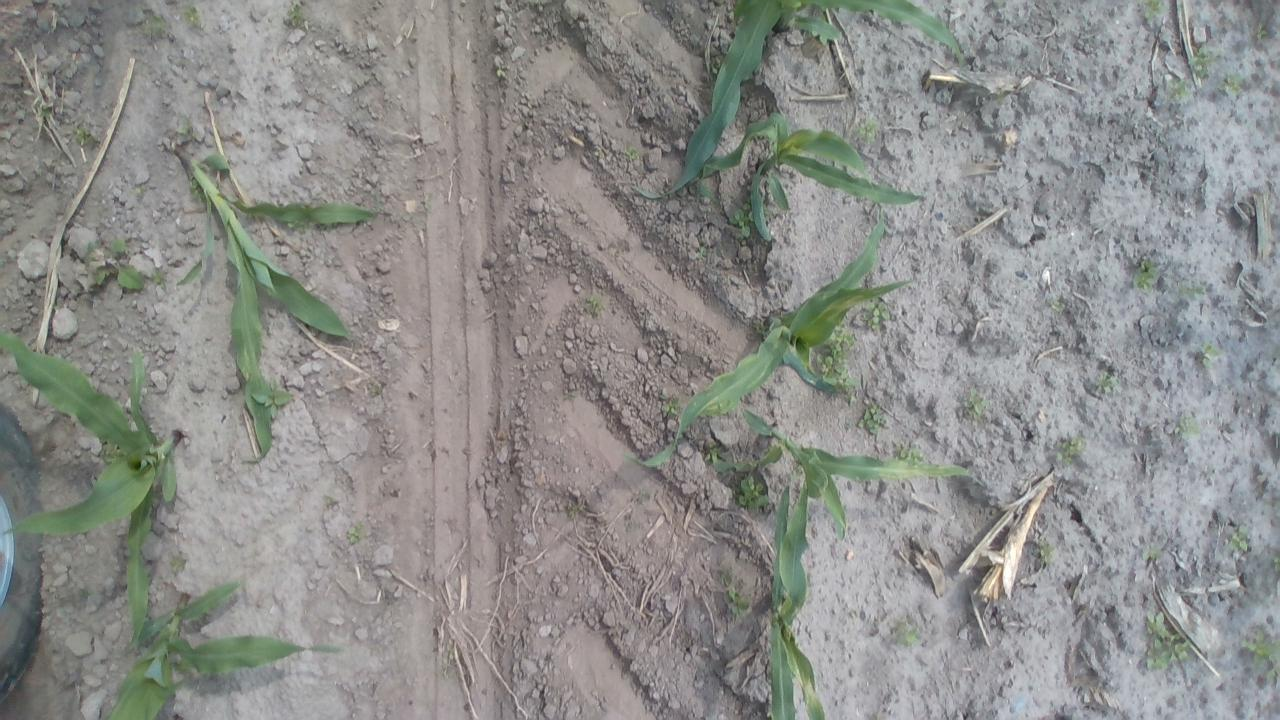Maize: (619, 219, 920, 472), (166, 124, 383, 468), (629, 1, 972, 200), (1, 316, 178, 656), (704, 404, 975, 544), (100, 577, 361, 720), (701, 112, 935, 242), (760, 477, 826, 720)
Weeds: (80, 238, 146, 292), (816, 312, 858, 395), (1144, 608, 1194, 674), (1238, 621, 1280, 684), (252, 374, 294, 420), (735, 470, 773, 514), (722, 569, 752, 620), (1054, 430, 1088, 472), (960, 384, 996, 422), (1130, 254, 1162, 294), (30, 90, 64, 127), (856, 401, 890, 436), (862, 298, 892, 335), (142, 12, 176, 44), (1190, 44, 1216, 84), (852, 114, 884, 146), (1138, 0, 1175, 27), (729, 206, 758, 240), (1226, 524, 1254, 558), (1197, 341, 1227, 372), (72, 124, 102, 153), (1218, 71, 1246, 101), (1095, 370, 1123, 398), (170, 113, 199, 140), (896, 624, 926, 650), (1171, 279, 1206, 301), (894, 445, 930, 466), (1036, 534, 1059, 566), (1167, 77, 1194, 104), (344, 518, 370, 546), (1172, 412, 1200, 438), (180, 4, 208, 29), (284, 1, 312, 26), (440, 642, 458, 680), (168, 553, 192, 580), (582, 289, 606, 315), (318, 490, 344, 513), (661, 393, 682, 420), (1044, 292, 1067, 316), (152, 266, 173, 292), (622, 141, 642, 164), (1144, 544, 1166, 564), (1254, 19, 1270, 43), (694, 246, 710, 263), (494, 62, 509, 80), (792, 463, 805, 481), (1273, 550, 1280, 574)
